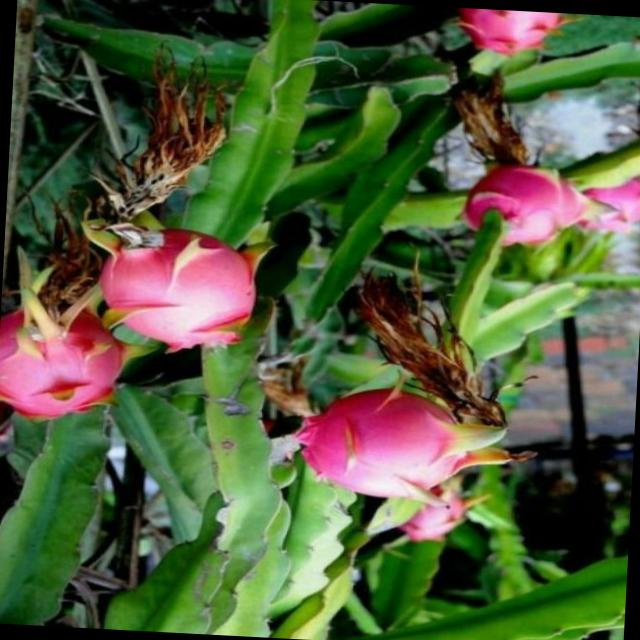Thanh Long: (288, 376, 520, 512), (100, 228, 262, 372), (0, 291, 114, 437), (456, 164, 584, 254), (402, 490, 478, 562), (587, 162, 640, 237), (472, 8, 564, 48)
